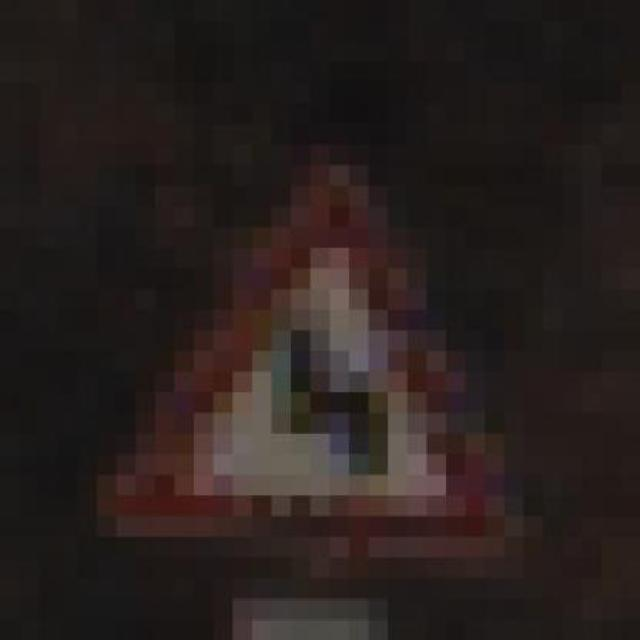Left Zig Zag Traffic: (59, 124, 543, 558)
